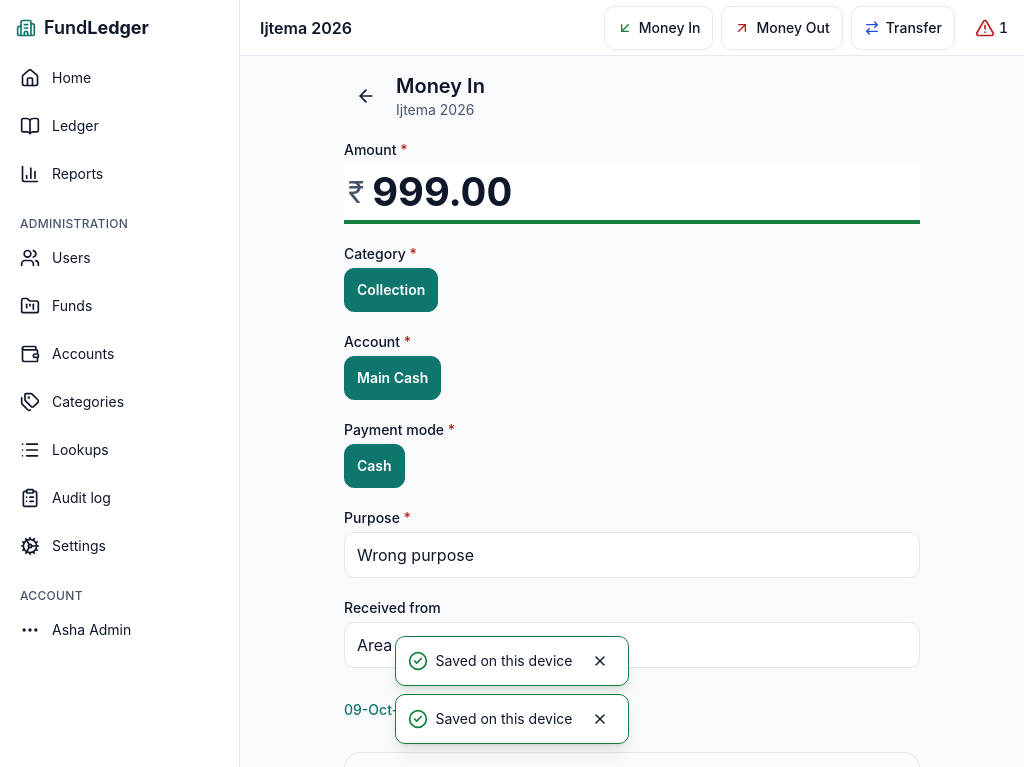
offline entry and the sync screen › "Edit & retry" reopens the entry with its values and sends the fixed entry again under the same id
The image size is (1024, 767).
Expected: the field labelled "Amount *" holds "999.00", 372,164 -> 916,220
Replace the text in the field labelled "Purpose *" with "Corrected purpose" at (632, 555), box 345,533 -> 919,577
(page scrolled)
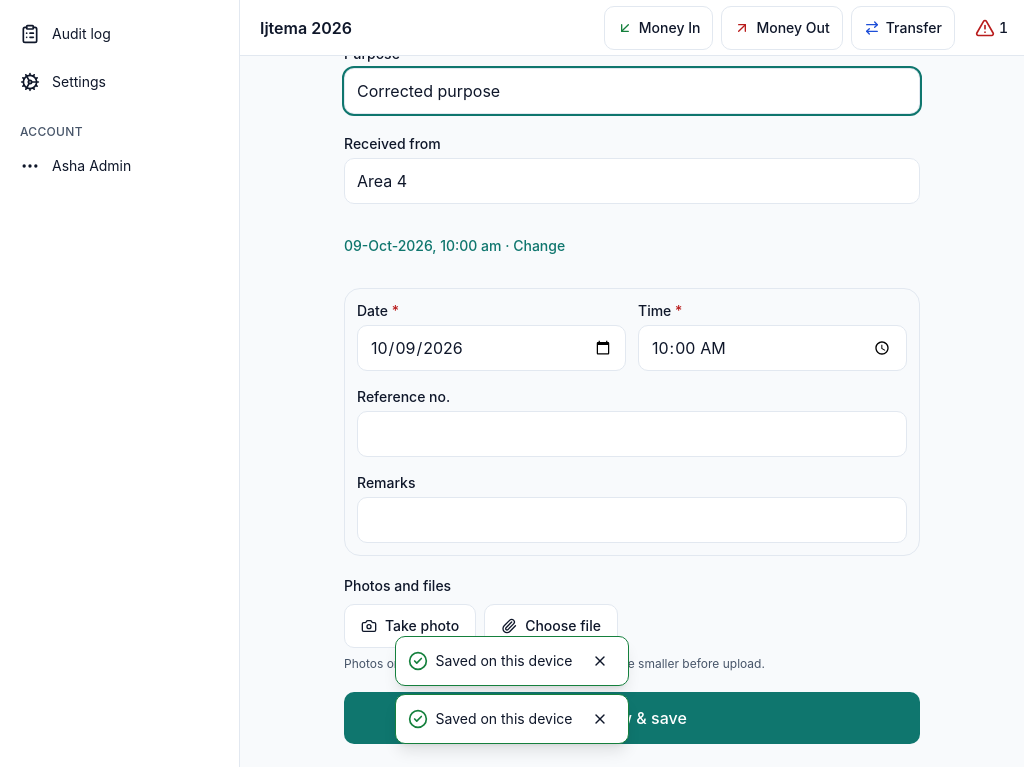
Click the button "Review & save" at (632, 718), box 344,692 -> 920,744
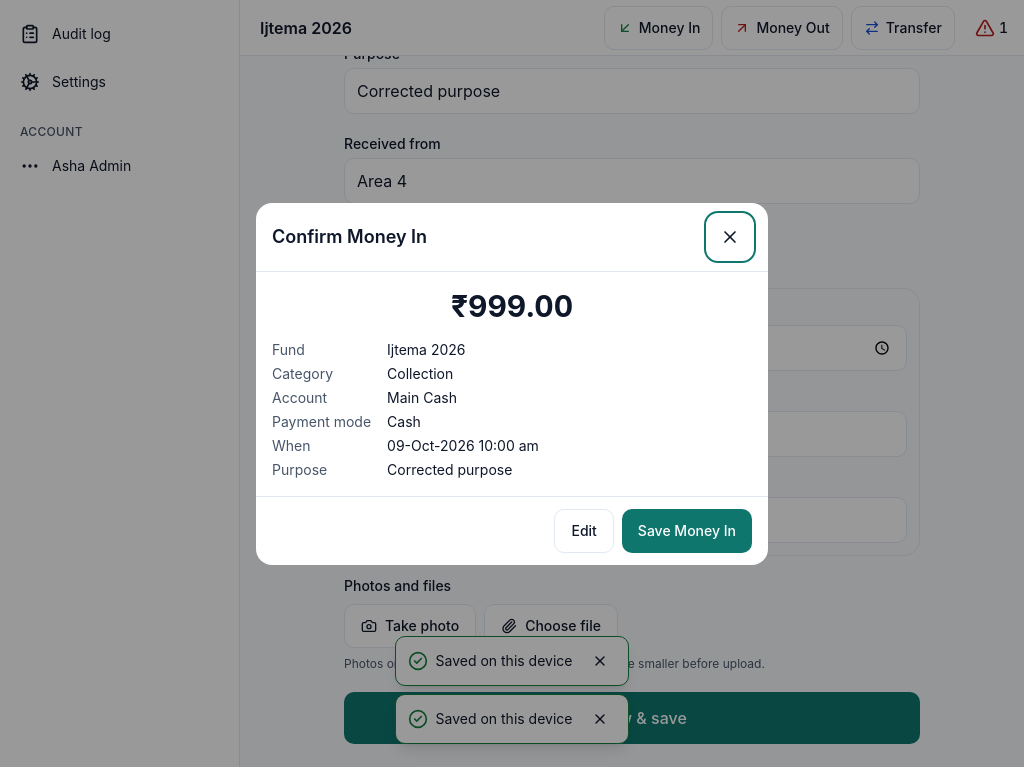
Click the button "Save Money In" at (687, 531), box 622,509 -> 752,553
(page scrolled)
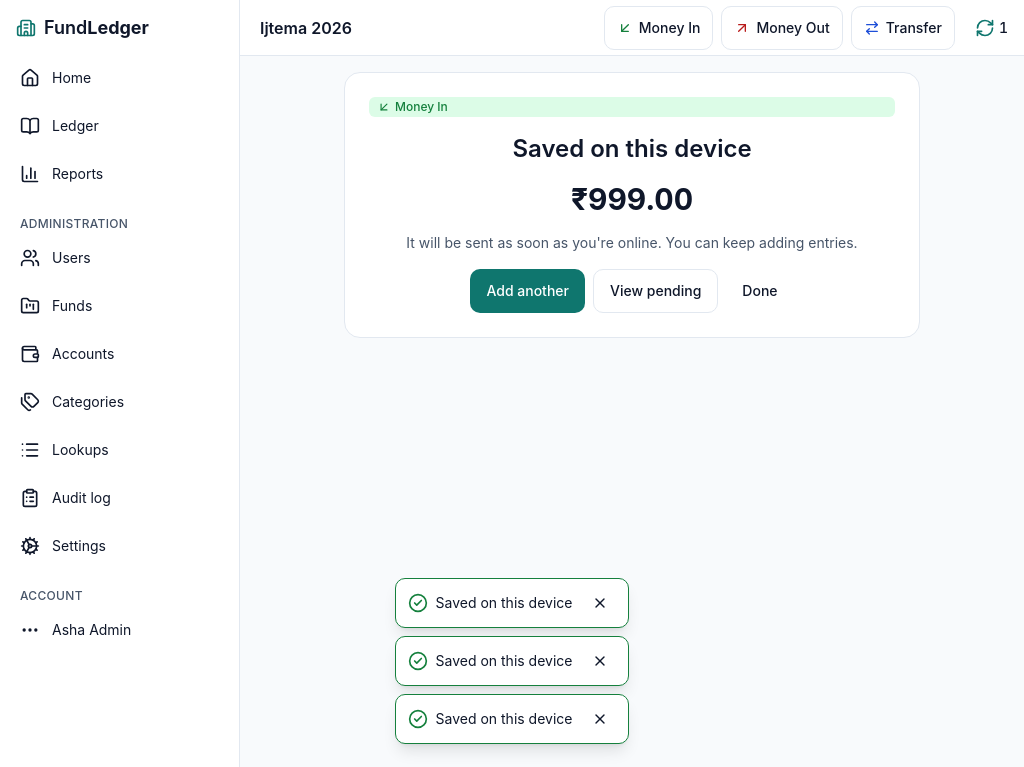
Now the heading "Saved on this device" is shown, box 512,134 -> 752,163
